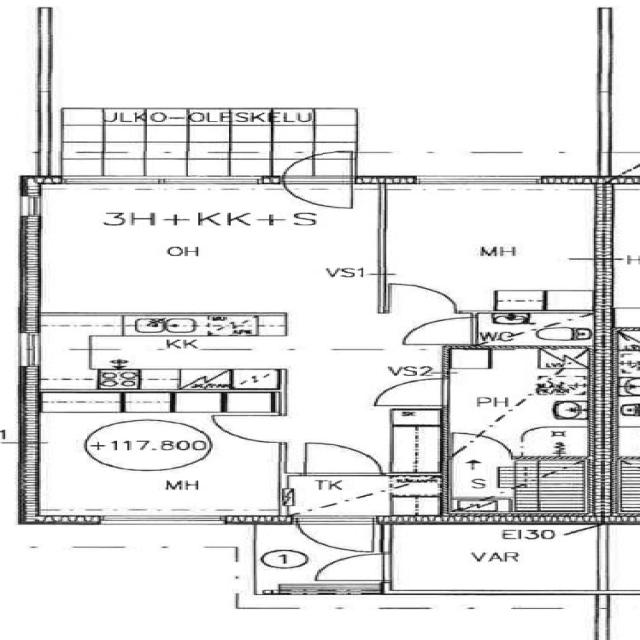door: (280, 474, 444, 518), (384, 281, 470, 348), (272, 154, 360, 211), (295, 439, 386, 478), (289, 515, 378, 553), (364, 374, 450, 411), (376, 278, 458, 316), (395, 315, 477, 347), (305, 553, 391, 582), (211, 413, 285, 444), (448, 432, 512, 460)
window: (31, 173, 276, 192), (399, 172, 558, 191), (82, 512, 236, 530), (367, 217, 399, 280), (11, 327, 47, 371), (11, 193, 47, 220)
zone: (23, 183, 378, 314), (27, 389, 284, 523), (374, 182, 605, 313), (29, 316, 291, 391), (442, 347, 598, 457), (382, 520, 607, 594), (443, 455, 600, 516), (278, 473, 444, 516), (472, 311, 600, 347)
